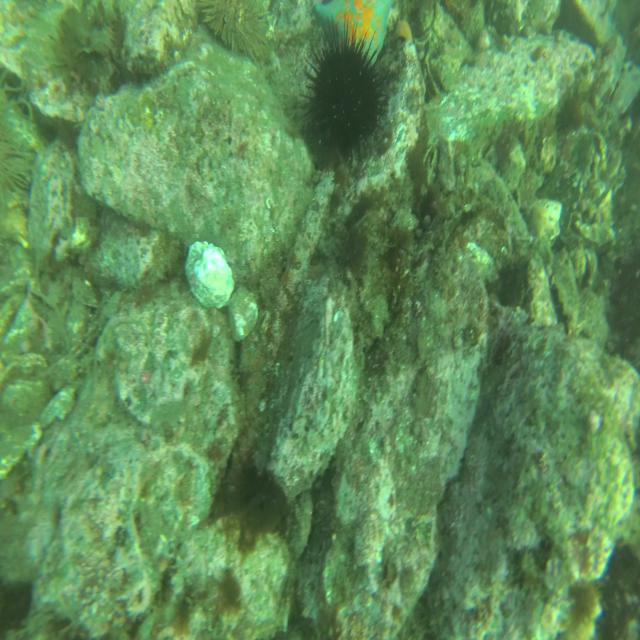echinus: (301, 34, 393, 162)
starfish: (311, 0, 394, 75)
